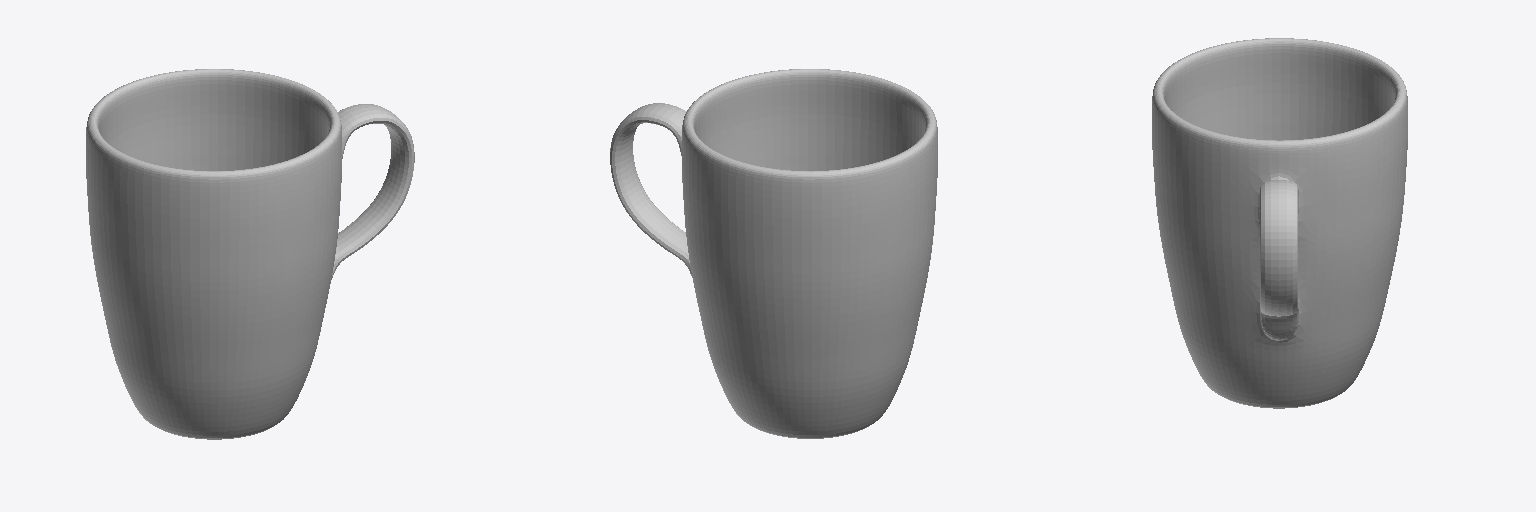
File: cup.obj
3 renders of one model, left to right at view 1: azimuth 30°, elevation 25°; view 2: azimuth 150°, elevation 25°; view 3: azimuth 270°, elevation 25°, orthographic.
Visible parts, largest first — view 1: coffee_cup; view 2: coffee_cup; view 3: coffee_cup.
Part boxes in pixels (x1,y1,x2,y2): coffee_cup: (86,69,414,439); coffee_cup: (610,69,937,438); coffee_cup: (1152,38,1407,408).
Size of the model in its own units: 0.812 by 0.7389 by 0.5897.